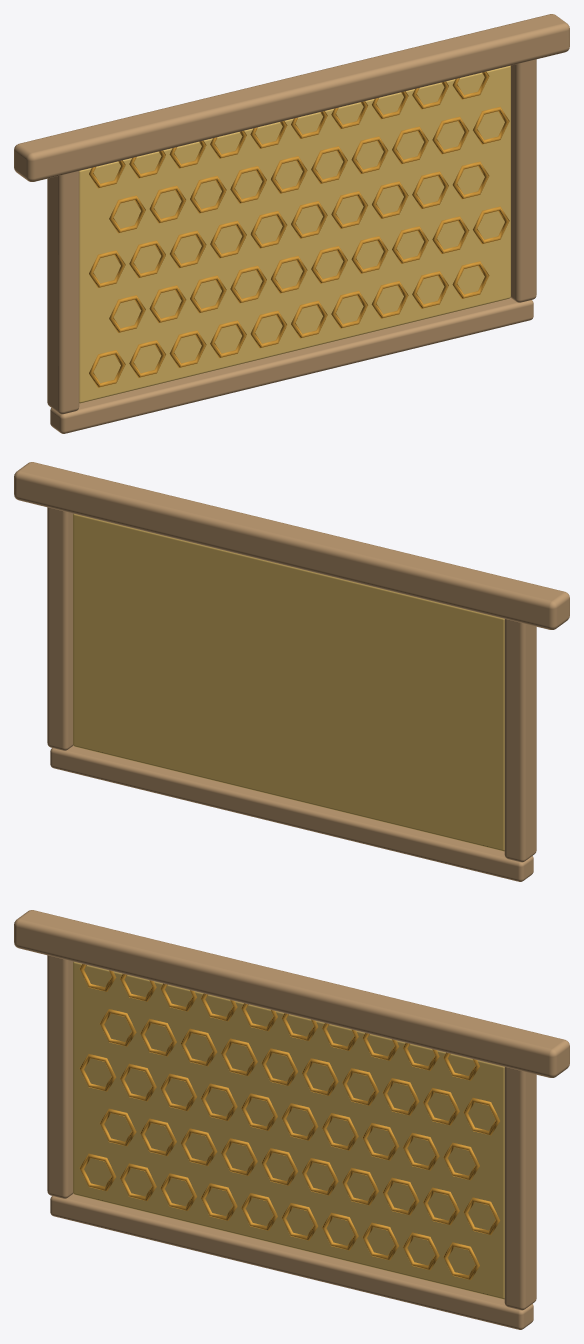
Rendered from beekeeping-and-honey-farm-inspection-frame-e18e15b8__30706.glb.
The picture shows the model from 3 angles, top to bottom: view 1: azimuth 30°, elevation 25°; view 2: azimuth 150°, elevation 25°; view 3: azimuth 330°, elevation 25°; orthographic projection.
Parts seen in each view (by area): view 1: inspection-frame; view 2: inspection-frame; view 3: inspection-frame.
Part boxes in pixels (<box>): inspection-frame: <box>14,14,569,433</box>; inspection-frame: <box>14,462,569,881</box>; inspection-frame: <box>14,910,569,1329</box>.
Bounding box in the file's own units: 0.47 × 0.24 × 0.027.
